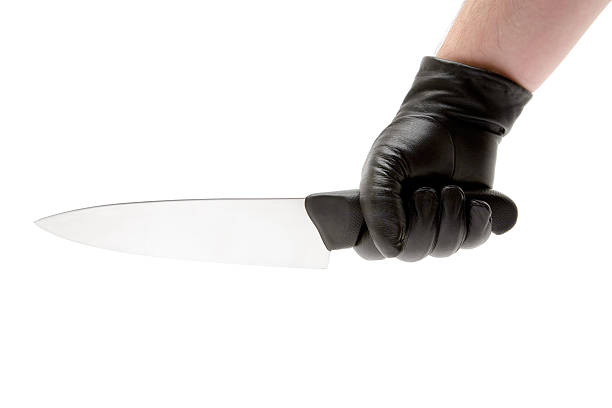knife: (29, 186, 521, 272)
